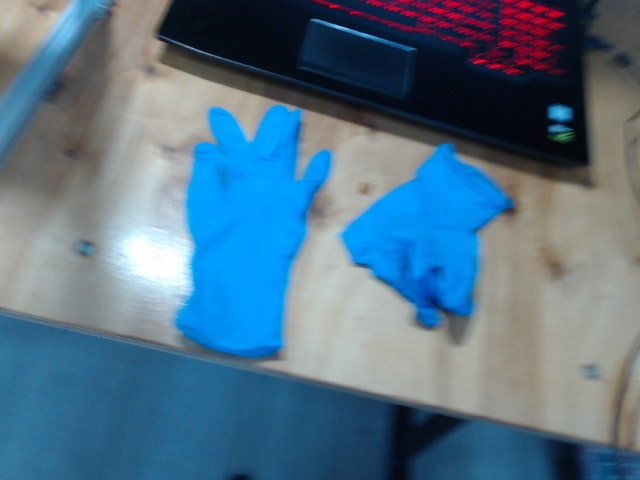medical_glove: (184, 104, 332, 357), (340, 143, 515, 326)
